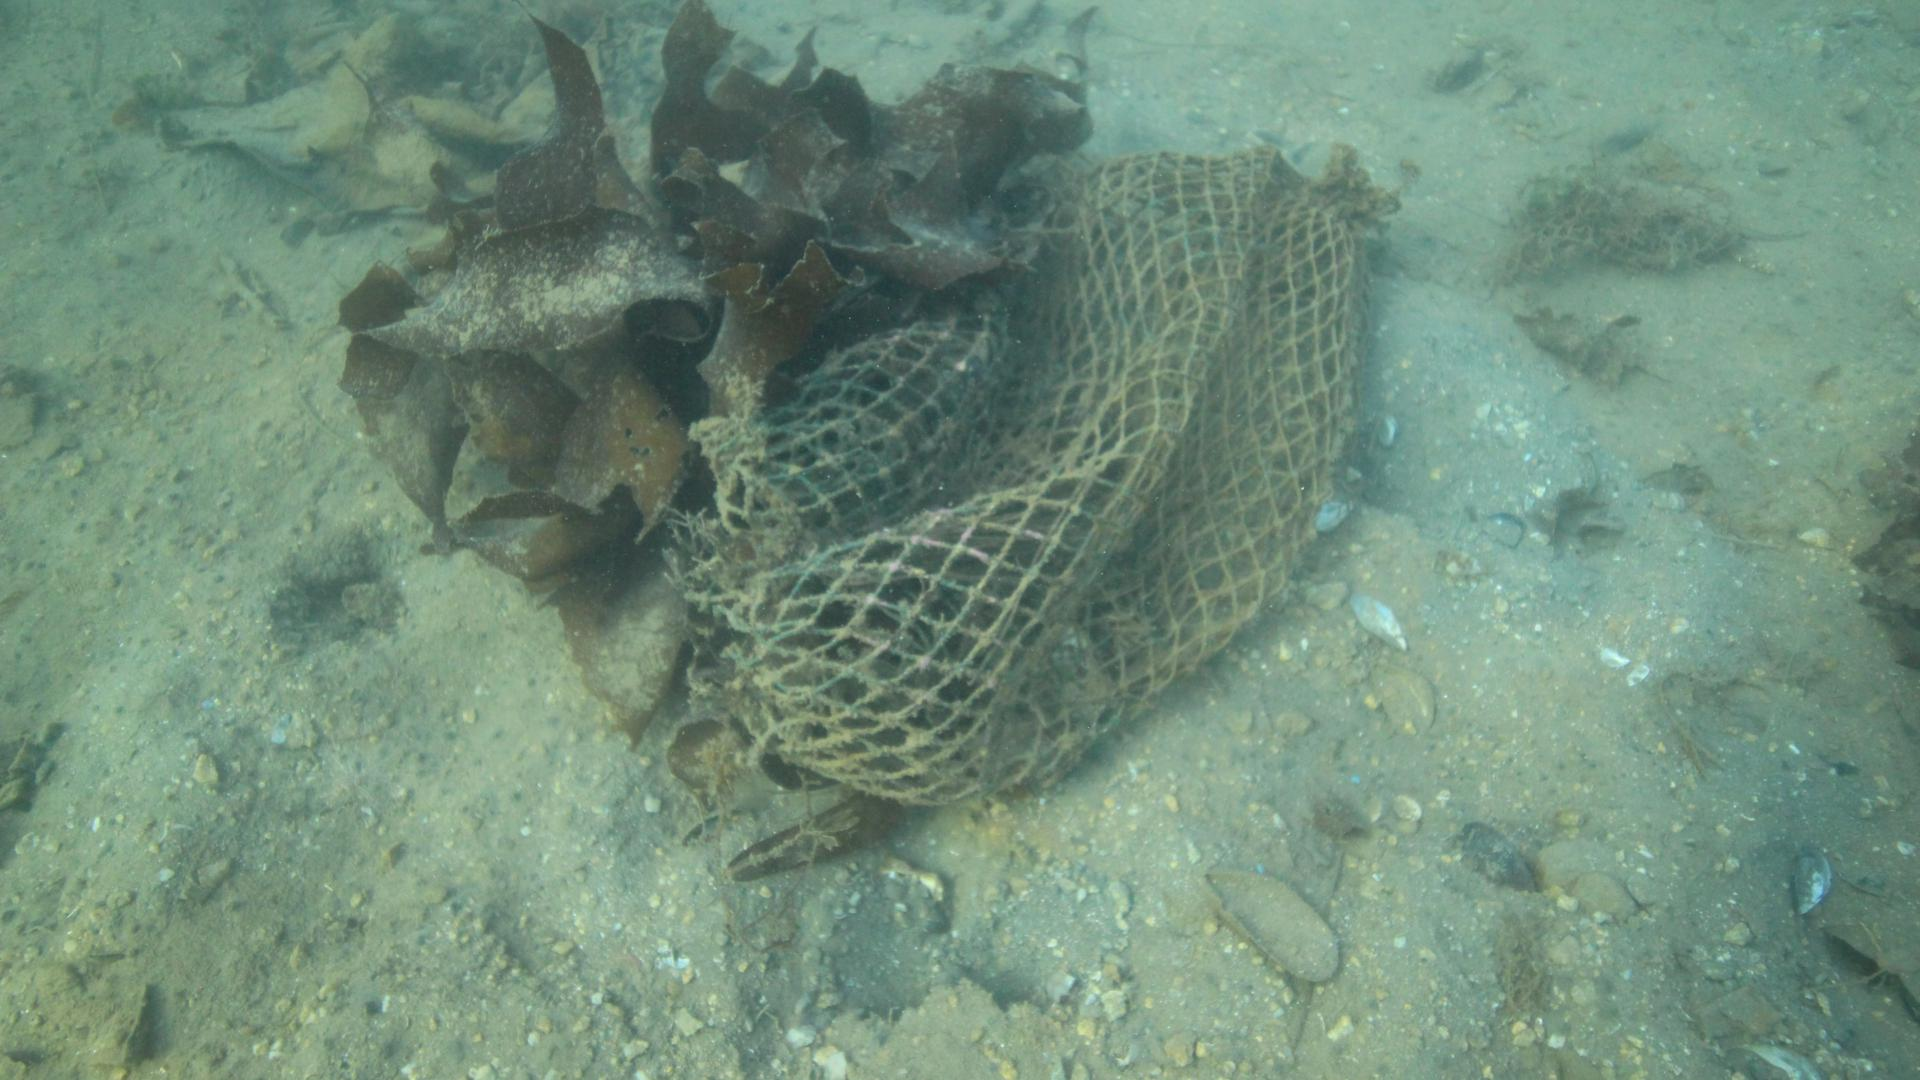fish net: (713, 148, 1371, 811)
